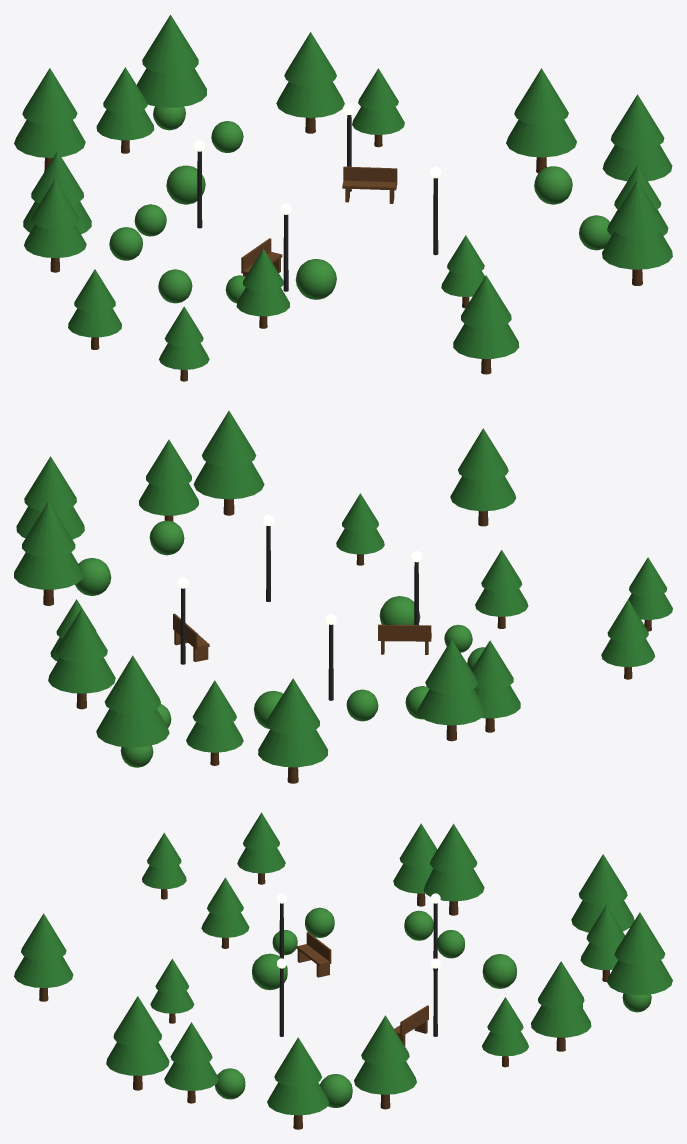
3 renders of one model, top to bottom at view 1: azimuth 30°, elevation 25°; view 2: azimuth 150°, elevation 25°; view 3: azimuth 270°, elevation 25°, orthographic. The views are drawn at different scales.
Visible parts, largest first — view 1: tree_12, tree_2, tree_15, tree_10, tree_13, tree_4, tree_0, tree_8, tree_11, tree_7, tree_5, tree_14 (+16 smaller); view 2: tree_12, tree_10, tree_2, tree_15, tree_9, tree_13, tree_4, tree_1, tree_11, tree_0, tree_8, tree_7 (+12 smaller); view 3: tree_12, tree_2, tree_15, tree_0, tree_9, tree_13, tree_4, tree_10, tree_1, tree_8, tree_7, tree_5 (+13 smaller).
Part boxes in pixels (left/top/right/bottom): tree_12: left=137, top=15, right=206, bottom=107; tree_2: left=602, top=180, right=672, bottom=285; tree_15: left=506, top=68, right=576, bottom=173; tree_10: left=14, top=68, right=85, bottom=171; tree_13: left=276, top=32, right=344, bottom=133; tree_4: left=453, top=275, right=519, bottom=374; tree_0: left=602, top=94, right=672, bottom=181; tree_8: left=24, top=179, right=86, bottom=272; tree_11: left=96, top=67, right=154, bottom=153; tree_7: left=68, top=269, right=121, bottom=349; tree_5: left=236, top=248, right=289, bottom=328; tree_14: left=352, top=68, right=404, bottom=147; tree_12: left=96, top=655, right=169, bottom=747; tree_10: left=258, top=678, right=328, bottom=783; tree_2: left=193, top=410, right=264, bottom=515; tree_15: left=14, top=501, right=83, bottom=605; tree_9: left=417, top=639, right=483, bottom=741; tree_13: left=48, top=608, right=115, bottom=709; tree_4: left=450, top=428, right=516, bottom=526; tree_1: left=139, top=439, right=198, bottom=521; tree_11: left=186, top=680, right=243, bottom=765; tree_0: left=16, top=456, right=84, bottom=539; tree_8: left=471, top=640, right=520, bottom=732; tree_7: left=601, top=599, right=654, bottom=679; tree_12: left=607, top=912, right=672, bottom=995; tree_2: left=106, top=996, right=169, bottom=1090; tree_15: left=354, top=1015, right=416, bottom=1109; tree_0: left=267, top=1037, right=329, bottom=1129; tree_9: left=423, top=823, right=484, bottom=915; tree_13: left=531, top=961, right=591, bottom=1051; tree_4: left=14, top=913, right=73, bottom=1001; tree_10: left=571, top=854, right=634, bottom=932; tree_1: left=164, top=1022, right=218, bottom=1103; tree_8: left=393, top=823, right=437, bottom=906; tree_7: left=237, top=812, right=285, bottom=884; tree_5: left=201, top=877, right=249, bottom=948.
Size of the model in its own units: 19.83 by 3.57 by 20.6.
